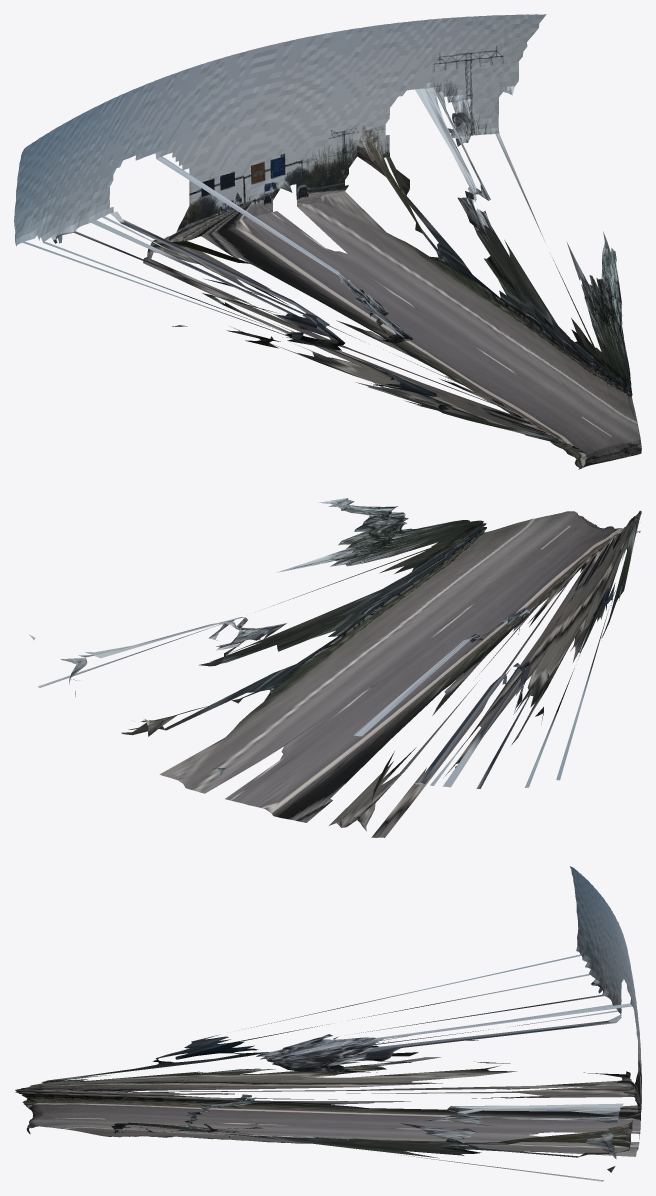
3 renders of one model, top to bottom at view 1: azimuth 30°, elevation 25°; view 2: azimuth 150°, elevation 25°; view 3: azimuth 270°, elevation 25°, orthographic. The views are drawn at different scales.
Parts seen in each view (by area): view 1: defaultobject; view 2: defaultobject; view 3: defaultobject.
Boxes of the visible parts, <box> form: defaultobject: <box>14,14,641,469</box>; defaultobject: <box>29,498,641,837</box>; defaultobject: <box>15,866,641,1181</box>.
Size of the model in its own units: 39.06 by 12.79 by 45.28.
Materials: 1 (1 with a texture image).
